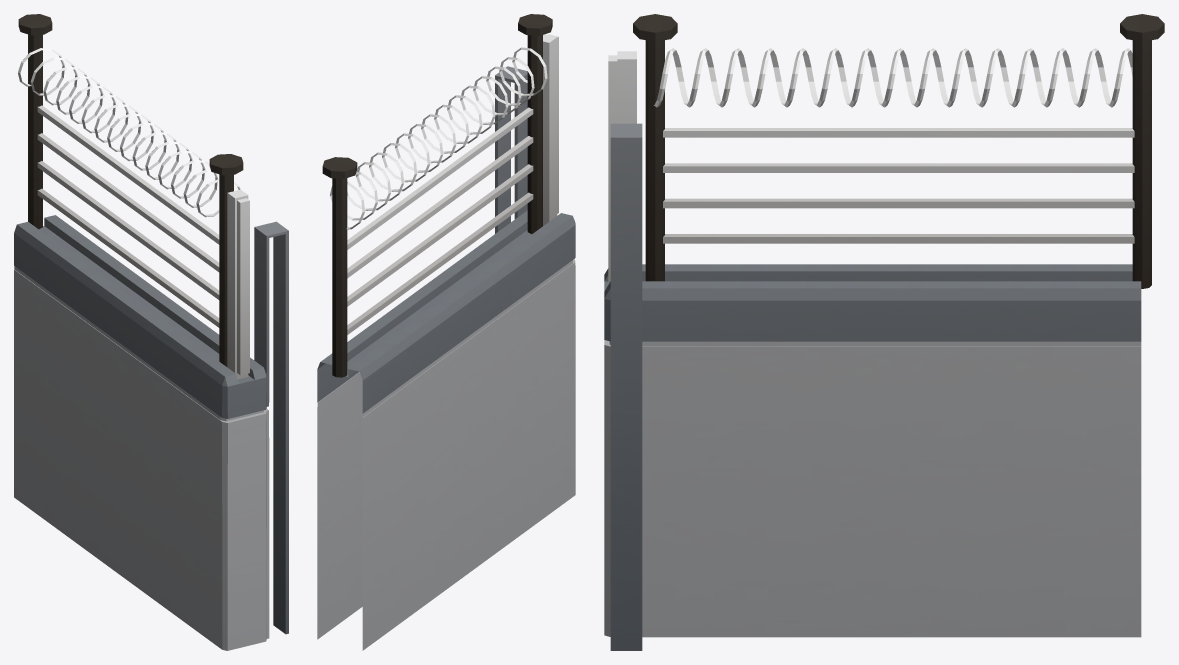
File: muro5.fbx
3 views of the same model, side by side, from view 1: azimuth 30°, elevation 25°; view 2: azimuth 150°, elevation 25°; view 3: azimuth 270°, elevation 25° (orthographic). The views are drawn at different scales.
Parts seen in each view (by area): view 1: puertaIzquierda1; view 2: puertaIzquierda1; view 3: puertaIzquierda1.
Part boxes in pixels (box(x1,y1,x2,y2)): puertaIzquierda1: box(14, 14, 288, 650); puertaIzquierda1: box(317, 14, 575, 650); puertaIzquierda1: box(604, 14, 1164, 650).
Size of the model in its own units: 326 by 2200 by 1863.
